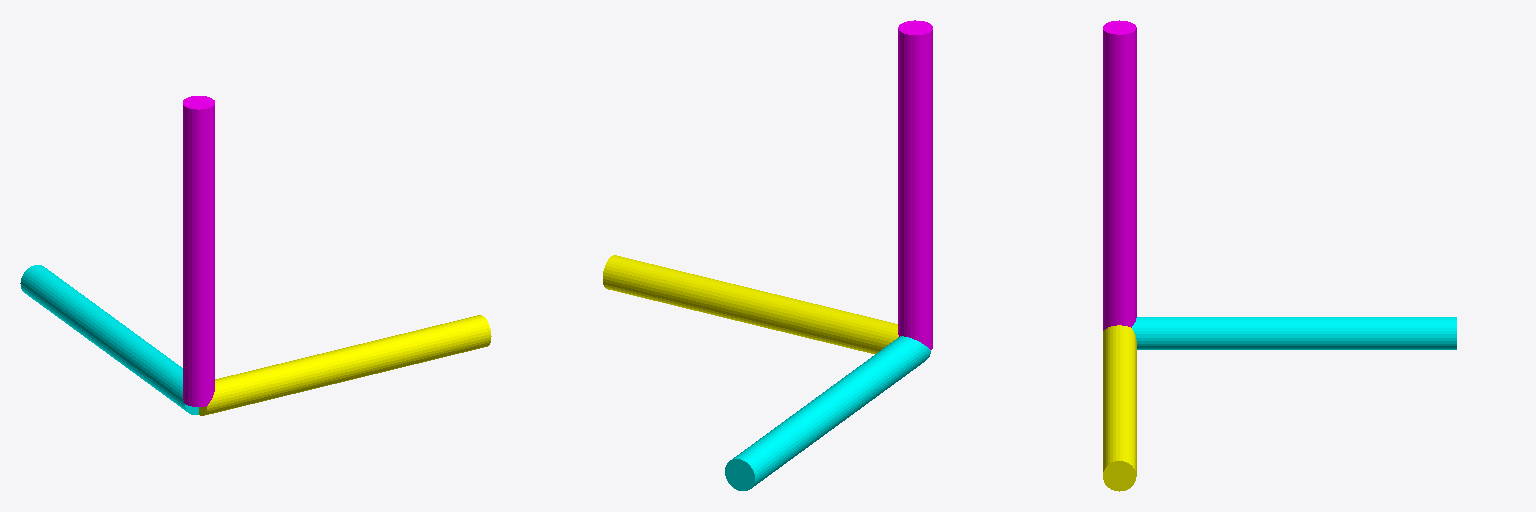
robot.urdf — coordinate_frame:
<?xml version="1.0"?>
<robot name="coordinate_frame">

  <!-- X axis (Red) -->
  <link name="x_axis">
    <visual>
      <origin xyz="0.05 0 0" rpy="0 1.5708 0" />
      <geometry>
        <cylinder length="0.1" radius="0.005" />
      </geometry>
      <material name="red">
        <color rgba="1 1 0 1" />
      </material>
    </visual>
  </link>

  <!-- Y axis (Green) -->
  <link name="y_axis">
    <visual>
      <origin xyz="0 0.05 0" rpy="-1.5708 0 0" />
      <geometry>
        <cylinder length="0.1" radius="0.005" />
      </geometry>
      <material name="green">
        <color rgba="0 1 1 1" />
      </material>
    </visual>
  </link>

  <!-- Z axis (Blue) -->
  <link name="z_axis">
    <visual>
      <origin xyz="0 0 0.05" rpy="0 0 0" />
      <geometry>
        <cylinder length="0.1" radius="0.005" />
      </geometry>
      <material name="blue">
        <color rgba="1 0 1 1" />
      </material>
    </visual>
  </link>

  <!-- Base link -->
  <link name="base_link" />

  <joint name="base_to_x" type="fixed">
    <parent link="base_link" />
    <child link="x_axis" />
    <origin xyz="0 0 0" rpy="0 0 0" />
  </joint>

  <joint name="base_to_y" type="fixed">
    <parent link="base_link" />
    <child link="y_axis" />
    <origin xyz="0 0 0" rpy="0 0 0" />
  </joint>

  <joint name="base_to_z" type="fixed">
    <parent link="base_link" />
    <child link="z_axis" />
    <origin xyz="0 0 0" rpy="0 0 0" />
  </joint>

</robot>

--- Render facts (derived) ---
3 views of the same robot in one strip: view 1: azimuth 30°, elevation 25°; view 2: azimuth 150°, elevation 25°; view 3: azimuth 270°, elevation 25° (orthographic).
Robot: coordinate_frame — 4 links, 3 joints (3 fixed); root link base_link; default pose: every joint at zero.
Links seen in each view (by area): view 1: z_axis, x_axis, y_axis; view 2: z_axis, x_axis, y_axis; view 3: y_axis, z_axis, x_axis.
Boxes of the visible links, x1=… form: z_axis: x1=183, y1=96, x2=214, y2=406; x_axis: x1=199, y1=315, x2=491, y2=415; y_axis: x1=20, y1=265, x2=198, y2=414; z_axis: x1=898, y1=20, x2=932, y2=349; x_axis: x1=603, y1=255, x2=898, y2=353; y_axis: x1=725, y1=336, x2=930, y2=490; y_axis: x1=1132, y1=317, x2=1456, y2=349; z_axis: x1=1103, y1=20, x2=1136, y2=330; x_axis: x1=1103, y1=325, x2=1136, y2=491.
Bounding box of the posed robot: 0.105 × 0.105 × 0.105 m (x, y, z).
Geometry: primitives only (box / cylinder / sphere), no mesh files.